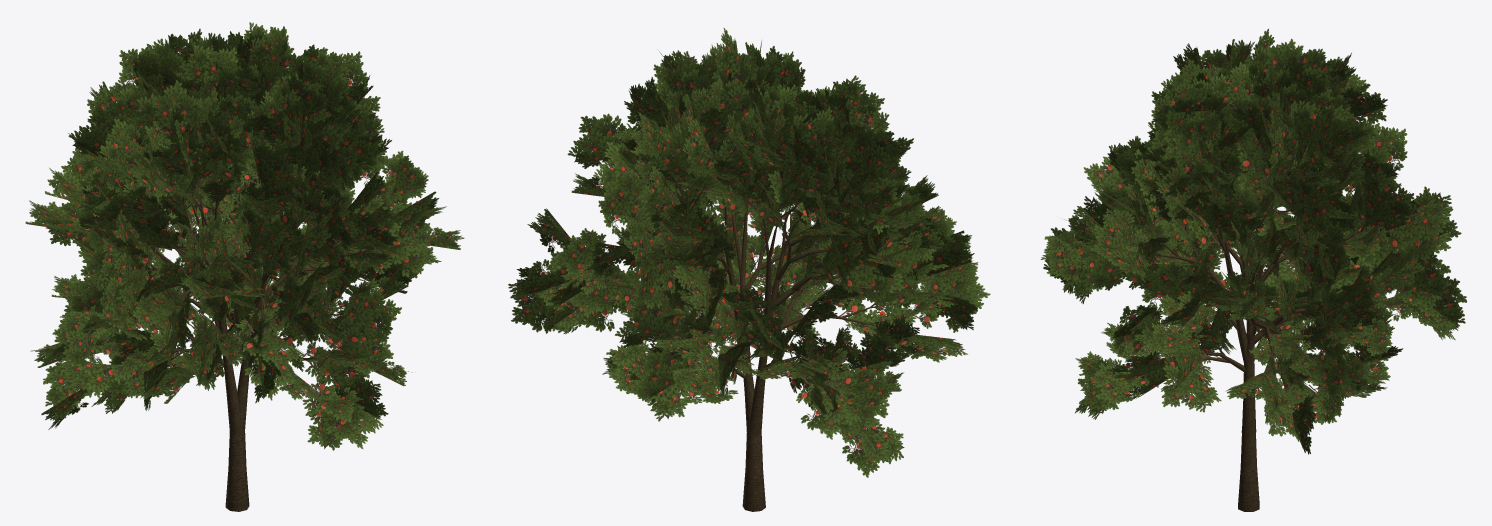
Rendered from forest-apple-tree-v1-optimized.glb.
The picture shows the model from 3 angles, left to right: view 1: azimuth 30°, elevation 25°; view 2: azimuth 150°, elevation 25°; view 3: azimuth 270°, elevation 25°; orthographic projection. The views are drawn at different scales.
Parts seen in each view (by area): view 1: AppleTree; view 2: AppleTree; view 3: AppleTree.
Part boxes in pixels (x1,y1,x2,y2): AppleTree: [25, 22, 464, 511]; AppleTree: [508, 28, 990, 511]; AppleTree: [1040, 28, 1466, 511].
Size of the model in its own units: 3.78 by 3.8 by 3.36.
2 materials, 2 textured.
